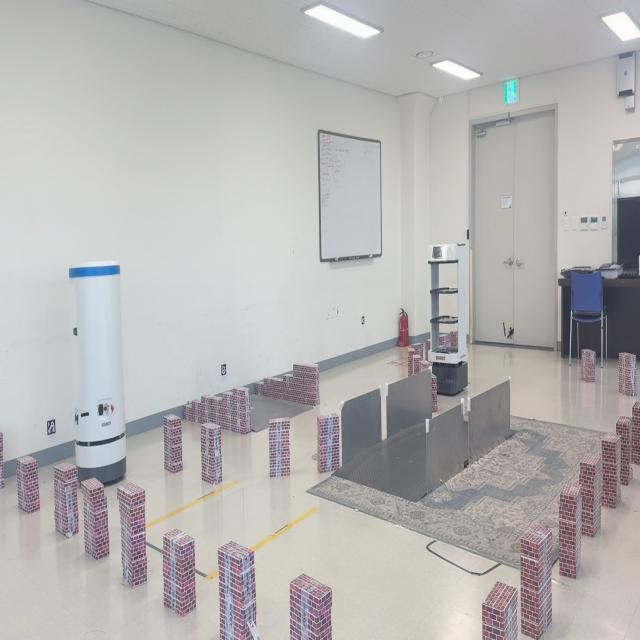sirbot: (69, 263, 129, 464)
